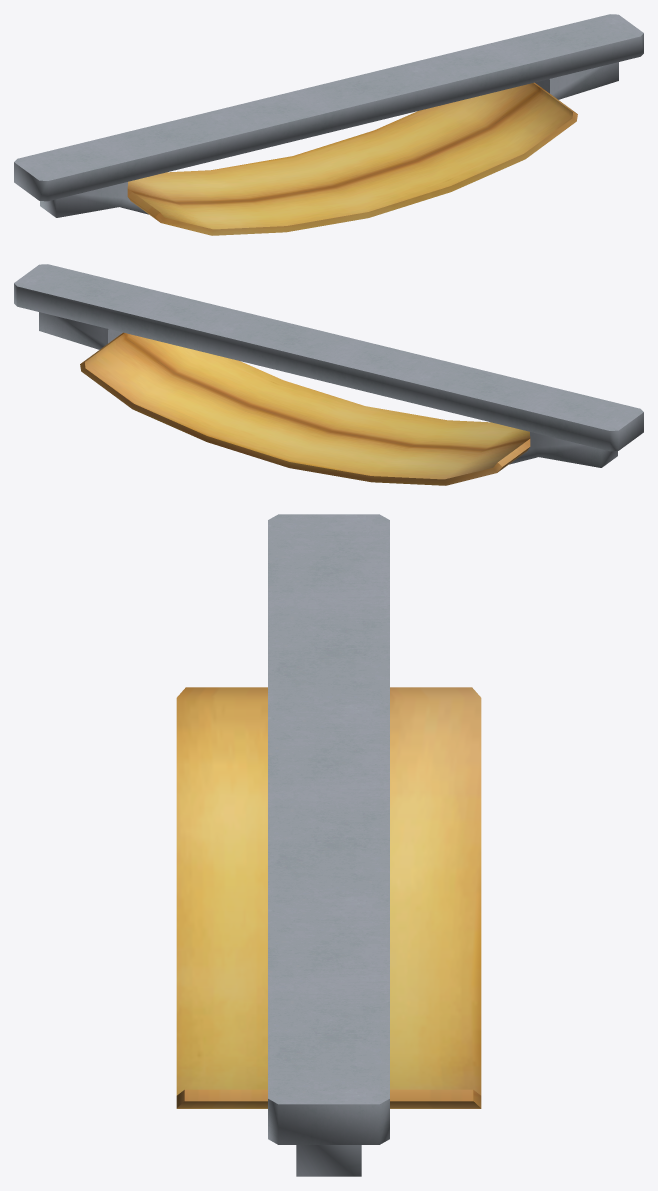
The model's file is p6_light_modern_sconce_on_LOD1.obj.
The picture shows the model from 3 angles, top to bottom: view 1: azimuth 30°, elevation 25°; view 2: azimuth 150°, elevation 25°; view 3: azimuth 270°, elevation 25°; orthographic projection. The views are drawn at different scales.
Parts seen in each view (by area): view 1: metal_exterior_karma, light_rice_paper_orange; view 2: metal_exterior_karma, light_rice_paper_orange; view 3: metal_exterior_karma, light_rice_paper_orange.
Boxes of the visible parts, <box> form: metal_exterior_karma: <box>14,14,643,217</box>; light_rice_paper_orange: <box>127,82,577,235</box>; metal_exterior_karma: <box>14,264,643,467</box>; light_rice_paper_orange: <box>80,332,530,485</box>; metal_exterior_karma: <box>268,514,389,1176</box>; light_rice_paper_orange: <box>176,687,481,1108</box>.
Size of the model in its own units: 140 by 22.37 by 30.6.
